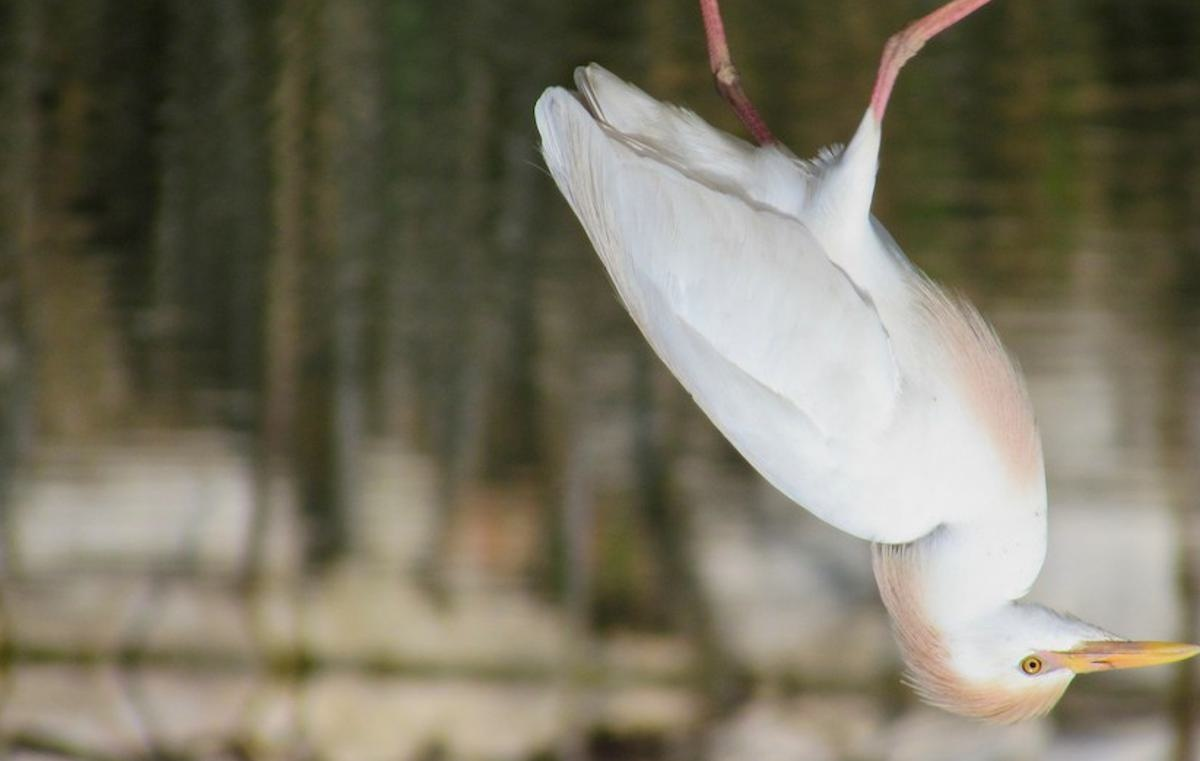egret: (539, 1, 1197, 726)
